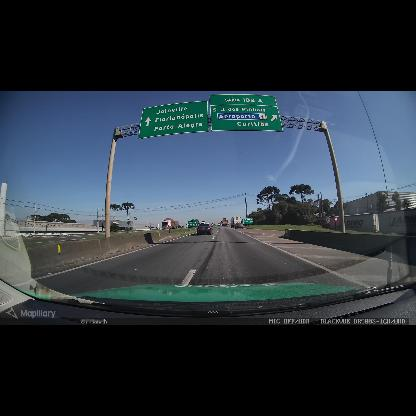R-2: (334, 217, 338, 224)
R-24a: (167, 219, 172, 227), (326, 217, 330, 223)
